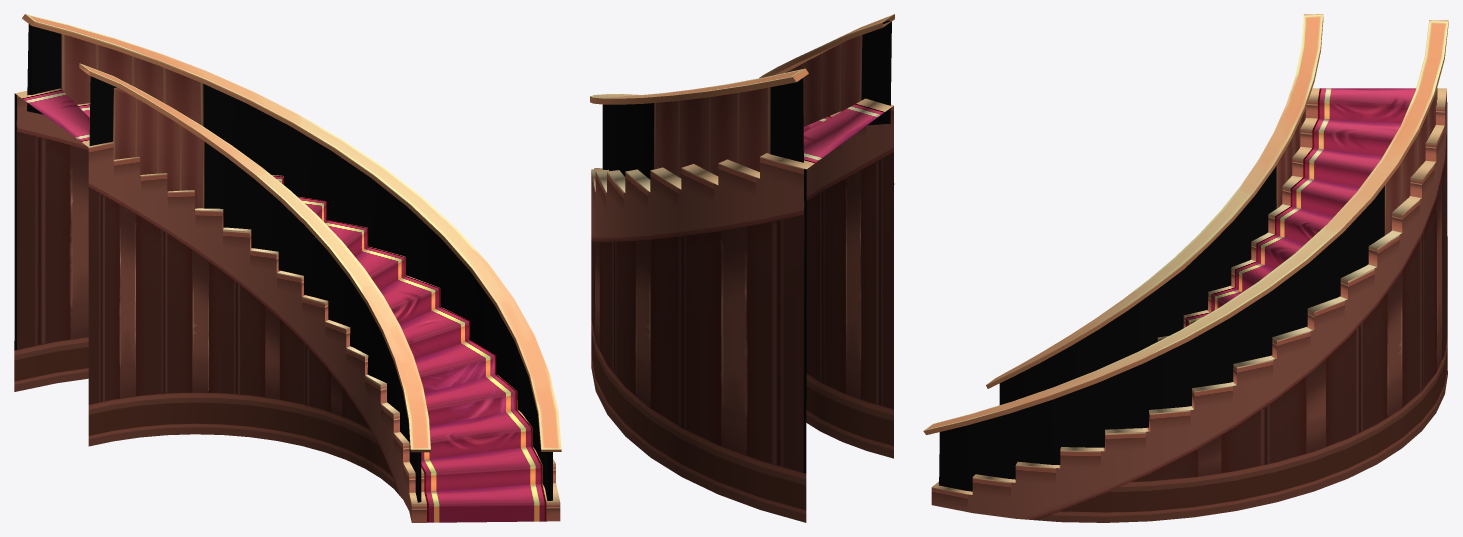
The model's file is Props_Stairs_v2.fbx.
3 renders of one model, left to right at view 1: azimuth 30°, elevation 25°; view 2: azimuth 150°, elevation 25°; view 3: azimuth 270°, elevation 25°, orthographic. The views are drawn at different scales.
Visible parts, largest first — view 1: polySurface100; view 2: polySurface100; view 3: polySurface100.
Part boxes in pixels (x1,y1,x2,y2): polySurface100: (14,14,561,522); polySurface100: (590,14,894,522); polySurface100: (923,14,1448,522).
Bounding box in the file's own units: 2.4 × 2.73 × 3.6.
